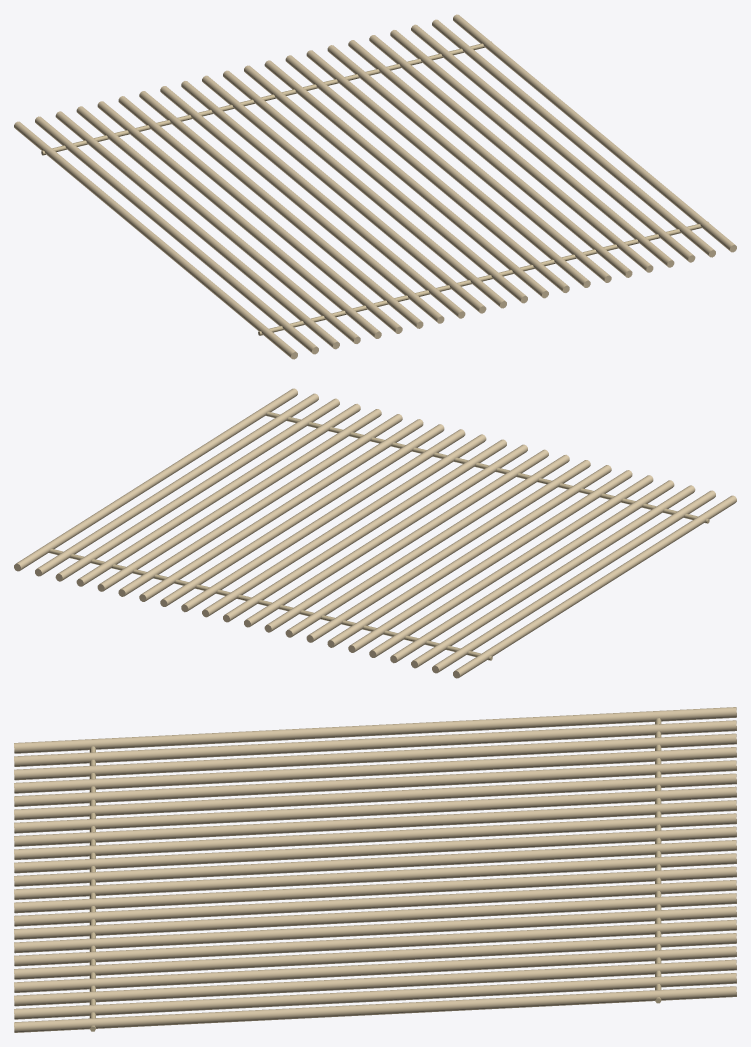
The model's file is cheesemaking-and-dairy-cellar-draining-mat-e128f55b__30863.glb.
3 renders of one model, top to bottom at view 1: azimuth 30°, elevation 25°; view 2: azimuth 150°, elevation 25°; view 3: azimuth 270°, elevation 25°, orthographic. The views are drawn at different scales.
Parts seen in each view (by area): view 1: draining-mat; view 2: draining-mat; view 3: draining-mat.
Boxes of the visible parts, x1,y1,x2,y2 form: draining-mat: (14, 14, 736, 359); draining-mat: (14, 388, 736, 678); draining-mat: (14, 707, 736, 1032).
Size of the model in its own units: 0.43 by 0.0323 by 0.4597.
